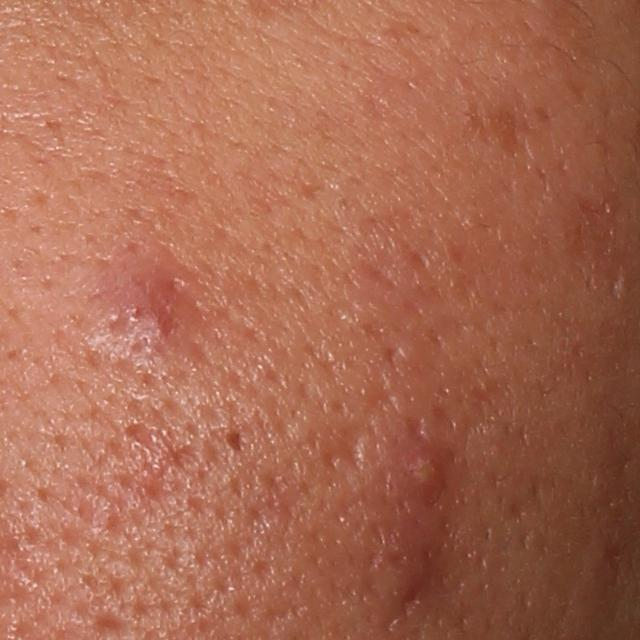atrophic_scar: (317, 408, 377, 474)
papule: (107, 256, 200, 350), (365, 541, 442, 620), (390, 439, 450, 500)
